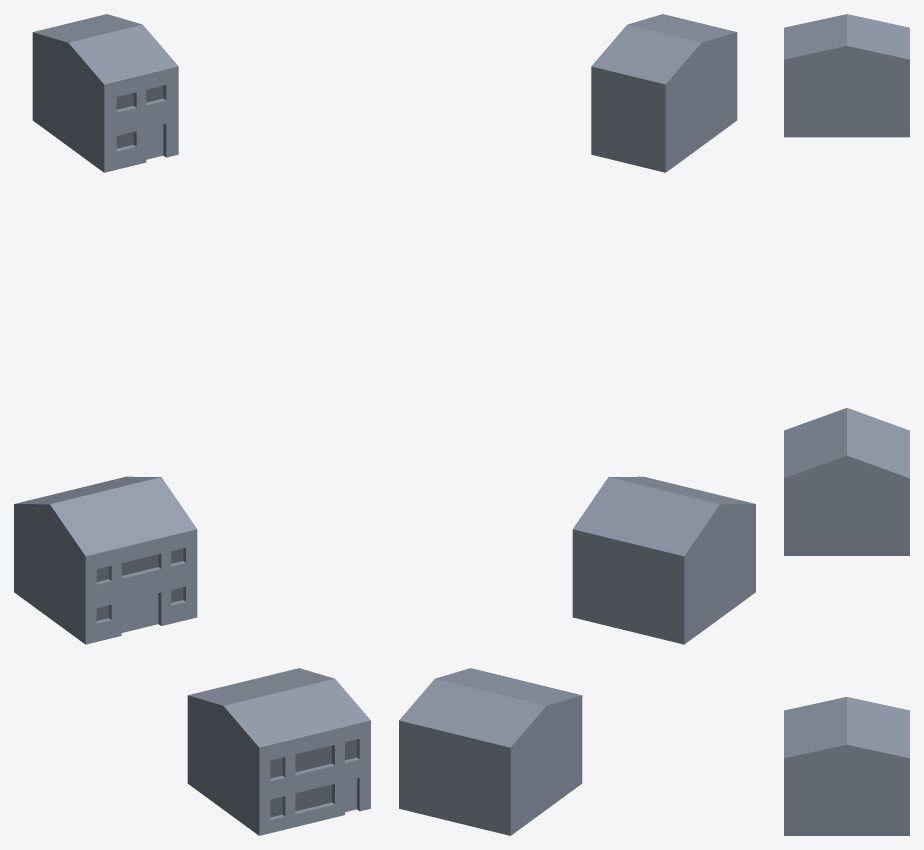
File: BinaGrup2.gltf
3 views of the same model, side by side, from view 1: azimuth 30°, elevation 25°; view 2: azimuth 150°, elevation 25°; view 3: azimuth 270°, elevation 25° (orthographic). The views are drawn at different scales.
Parts seen in each view (by area): view 1: Building_075.014, Building_083.014, Building_073.014, Building_083.015, Building_075.015, Building_075.016, Building_073.015; view 2: Building_075.014, Building_083.014, Building_073.014; view 3: Building_075.014, Building_083.014, Building_073.014.
Boxes of the visible parts, x1=… form: Building_075.014: x1=14, y1=476, x2=197, y2=644; Building_083.014: x1=187, y1=668, x2=370, y2=835; Building_073.014: x1=32, y1=14, x2=178, y2=172; Building_083.015: x1=270, y1=739, x2=356, y2=817; Building_075.015: x1=96, y1=548, x2=183, y2=620; Building_075.016: x1=121, y1=593, x2=158, y2=632; Building_073.015: x1=116, y1=86, x2=163, y2=148; Building_075.014: x1=572, y1=476, x2=755, y2=644; Building_083.014: x1=399, y1=668, x2=582, y2=835; Building_073.014: x1=591, y1=14, x2=737, y2=172; Building_075.014: x1=784, y1=408, x2=909, y2=555; Building_083.014: x1=784, y1=697, x2=909, y2=835; Building_073.014: x1=784, y1=14, x2=909, y2=137.
Bounding box in the file's own units: 0.125 × 0.337 × 0.0543.
